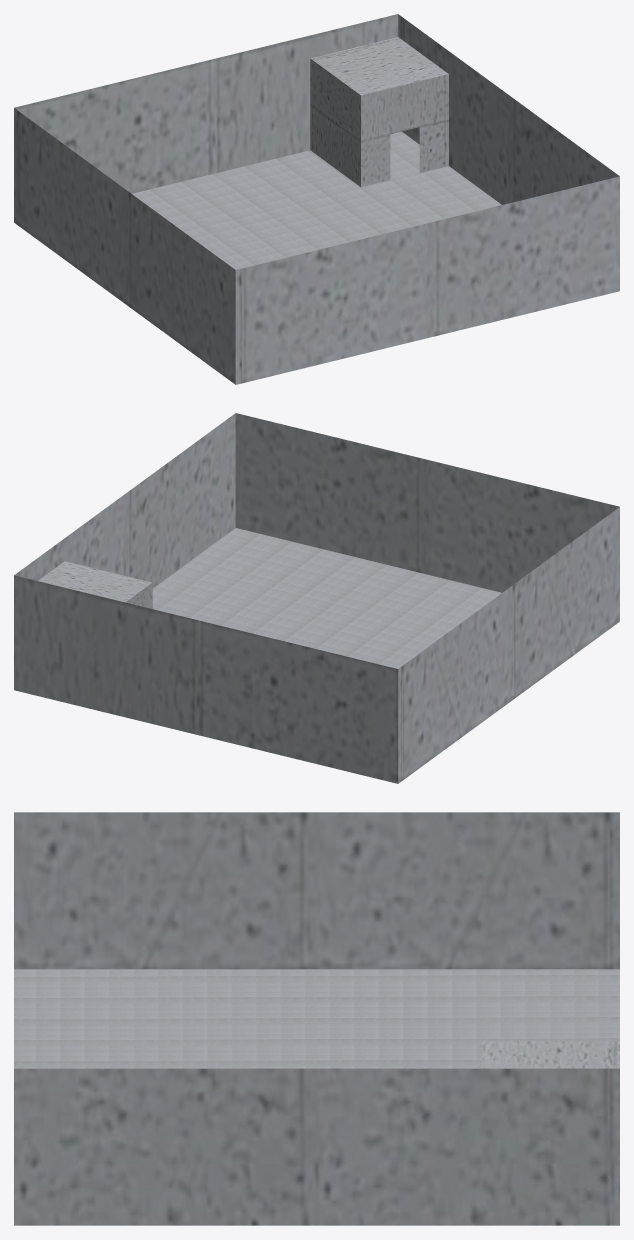
Rendered from level_true.glb.
3 renders of one model, top to bottom at view 1: azimuth 30°, elevation 25°; view 2: azimuth 150°, elevation 25°; view 3: azimuth 270°, elevation 25°, orthographic. The views are drawn at different scales.
Parts seen in each view (by area): view 1: Plane, Cube; view 2: Plane, Cube; view 3: Plane, Cube.
Part boxes in pixels (x1,y1,x2,y2): Plane: (14, 14, 619, 384); Cube: (310, 37, 448, 187); Plane: (14, 413, 619, 783); Cube: (38, 561, 152, 608); Plane: (14, 812, 619, 1225); Cube: (481, 1041, 619, 1068).
Bounding box in the file's own units: 70 × 20 × 70.
1 material, 1 textured.
